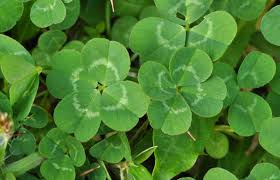4-clover: (47, 37, 148, 143), (139, 48, 227, 137)
